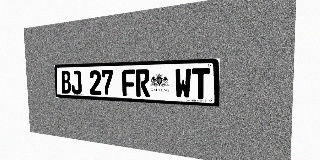2: (89, 70, 101, 95)
7: (101, 70, 114, 95)
B: (61, 71, 71, 94)
F: (122, 69, 136, 96)
J: (71, 70, 82, 94)
R: (135, 69, 150, 97)
T: (192, 68, 210, 99)
W: (175, 68, 191, 99)
